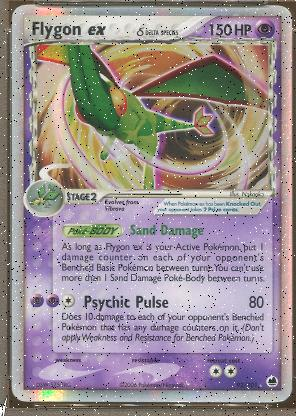Card: (9, 2, 291, 404)
